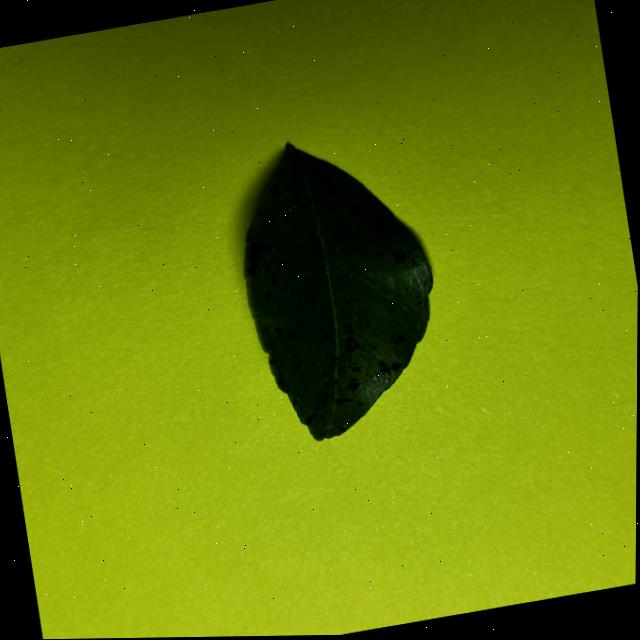sooty_mold: (243, 143, 431, 439)
